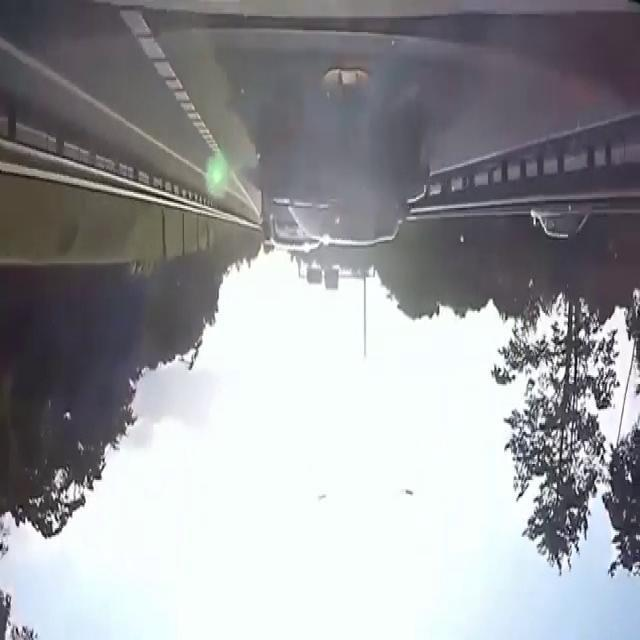moderate: (252, 108, 432, 267)
